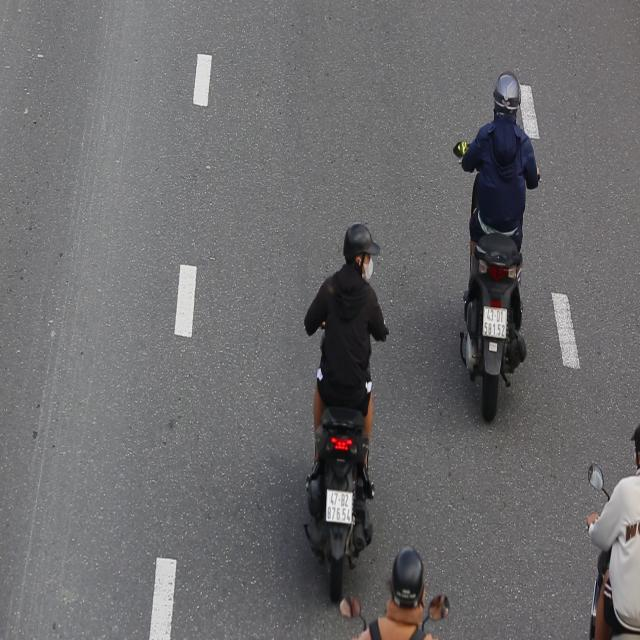motorbike: (294, 212, 386, 596), (450, 65, 534, 435)
